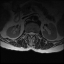CCS_normal: (30, 29, 32, 39)
LFS_normal: (35, 30, 37, 37)
LLS_normal: (32, 30, 35, 37)
RFS_normal: (26, 29, 28, 36)
RLS_normal: (28, 30, 30, 37)
